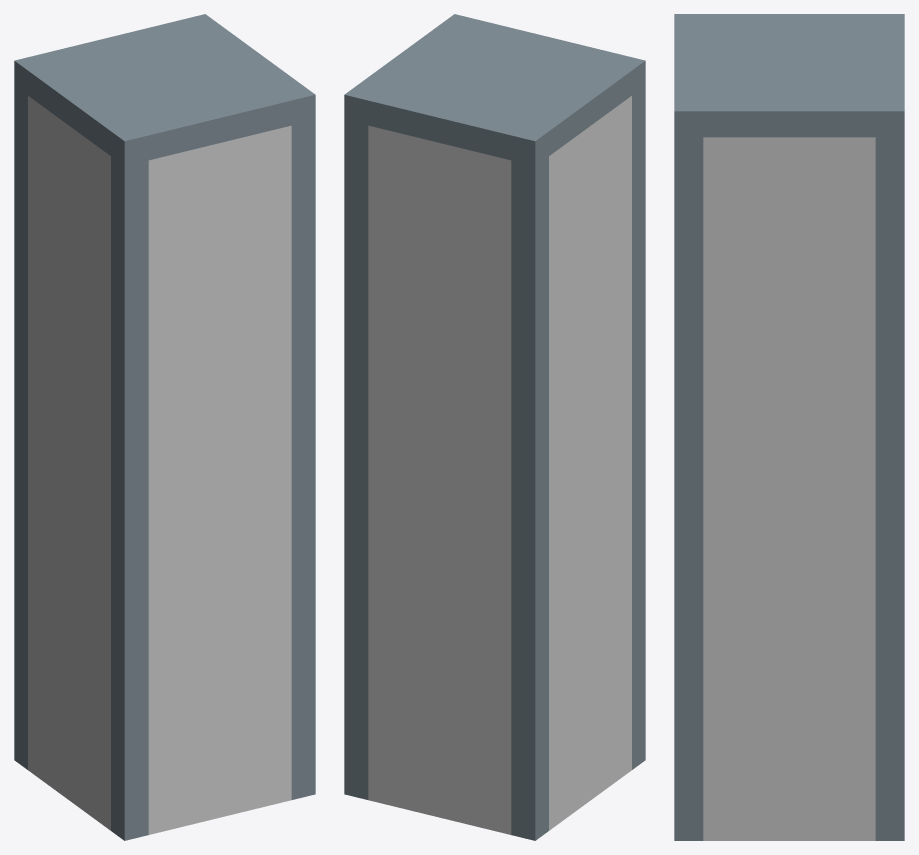
File: pillar.gltf
3 renders of one model, left to right at view 1: azimuth 30°, elevation 25°; view 2: azimuth 150°, elevation 25°; view 3: azimuth 270°, elevation 25°, orthographic. The views are drawn at different scales.
Parts seen in each view (by area): view 1: Layer.1; view 2: Layer.1; view 3: Layer.1.
Part boxes in pixels (x1=…): Layer.1: x1=14, y1=14, x2=315, y2=840; Layer.1: x1=344, y1=14, x2=645, y2=840; Layer.1: x1=674, y1=14, x2=904, y2=840.
Bounding box in the file's own units: 8 × 28 × 8.
